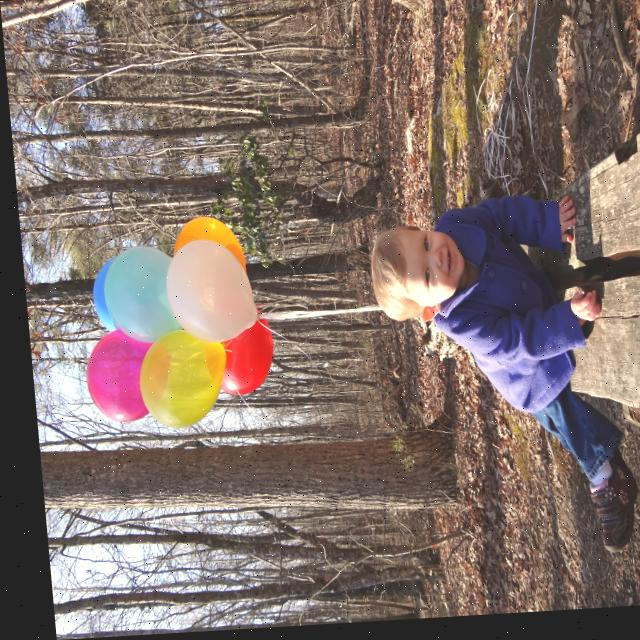balloon: (131, 325, 223, 433), (163, 245, 256, 345), (93, 247, 173, 339), (78, 333, 149, 419), (167, 212, 238, 277), (210, 322, 271, 393)
